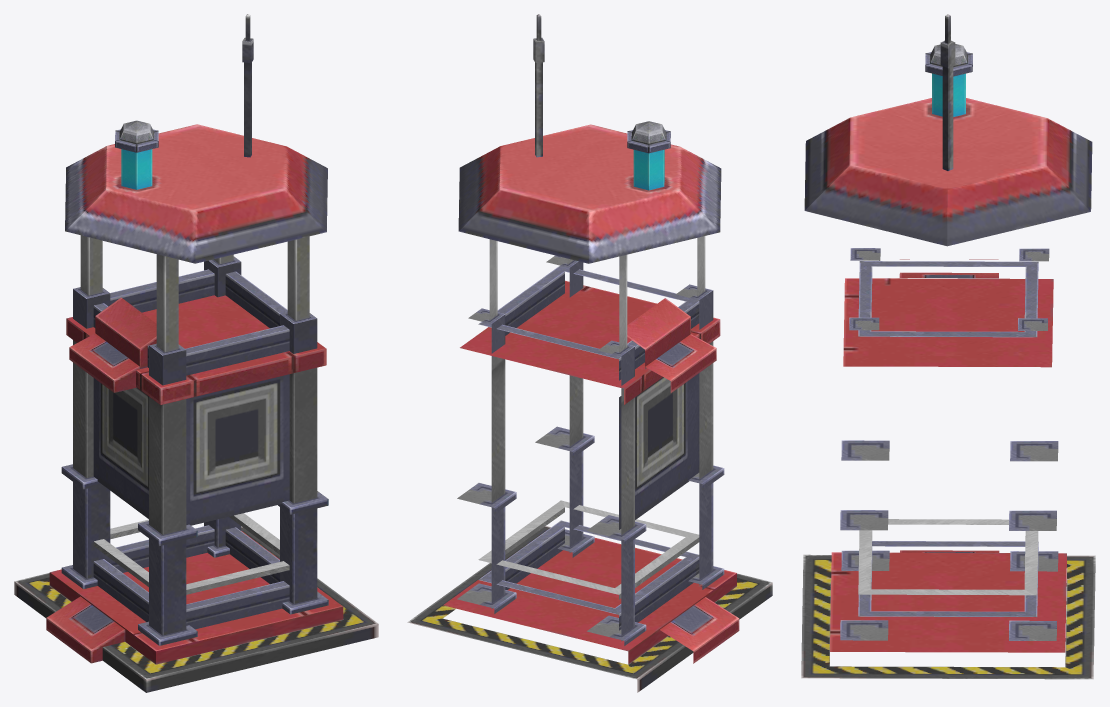
3 views of the same model, side by side, from view 1: azimuth 30°, elevation 25°; view 2: azimuth 150°, elevation 25°; view 3: azimuth 270°, elevation 25° (orthographic). The views are drawn at different scales.
Parts seen in each view (by area): view 1: RED; view 2: RED; view 3: RED.
Boxes of the visible parts, x1=… form: RED: x1=14, y1=14, x2=378, y2=692; RED: x1=407, y1=14, x2=772, y2=692; RED: x1=801, y1=14, x2=1095, y2=679.
Bounding box in the file's own units: 4.83 × 10.39 × 4.3.
1 material, 1 textured.
